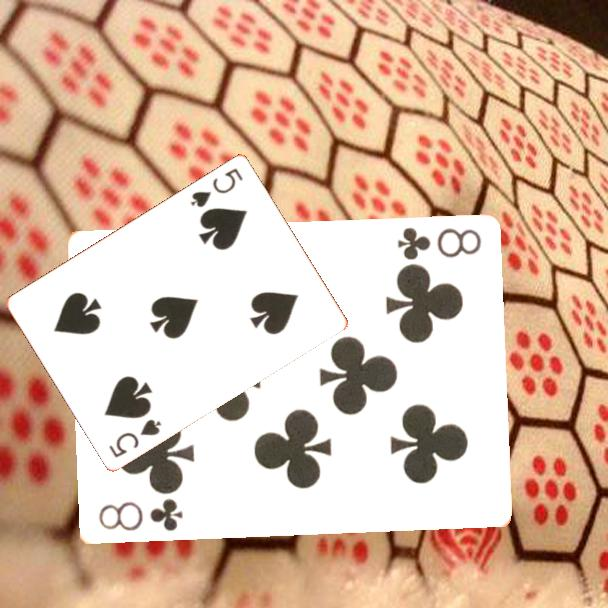c08: (95, 495, 185, 534), (394, 224, 484, 263)
s05: (187, 164, 246, 210), (105, 415, 165, 460)
